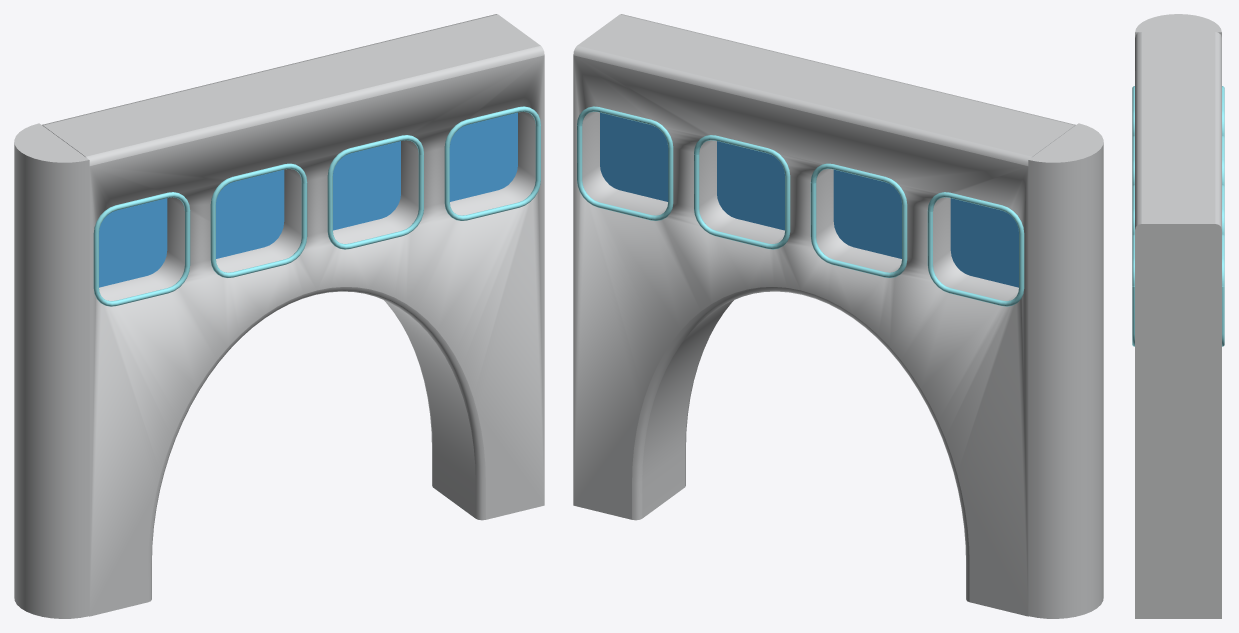
File: Arch_R2D07_WindowTiles.fbx
3 views of the same model, side by side, from view 1: azimuth 30°, elevation 25°; view 2: azimuth 150°, elevation 25°; view 3: azimuth 270°, elevation 25° (orthographic). The views are drawn at different scales.
Parts seen in each view (by area): view 1: Arch_R2D07_WindowTiles; view 2: Arch_R2D07_WindowTiles; view 3: Arch_R2D07_WindowTiles.
Part boxes in pixels (x1,y1,x2,y2): Arch_R2D07_WindowTiles: [14, 14, 544, 618]; Arch_R2D07_WindowTiles: [573, 14, 1103, 618]; Arch_R2D07_WindowTiles: [1132, 14, 1224, 618].
Size of the model in its own units: 2.29 by 2.01 by 0.426.
